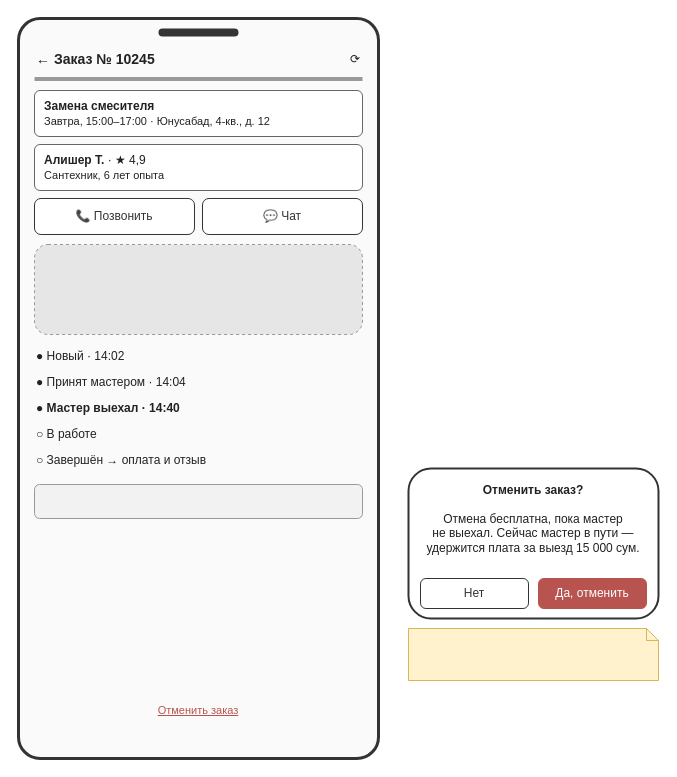
Image size: 677x777. Some labels were removed from this diagram. Here are the shapes that lost their labels. From the top down, the box of each, then its label:
(34, 244, 362, 334): [ карта: мастер в пути · ~12 мин ]
(34, 484, 362, 518): Предварительно: 95 000 сум · оплата Payme после работы
(408, 628, 658, 680): Диалог подтверждения, открывается по ссылке «Отменить заказ»
